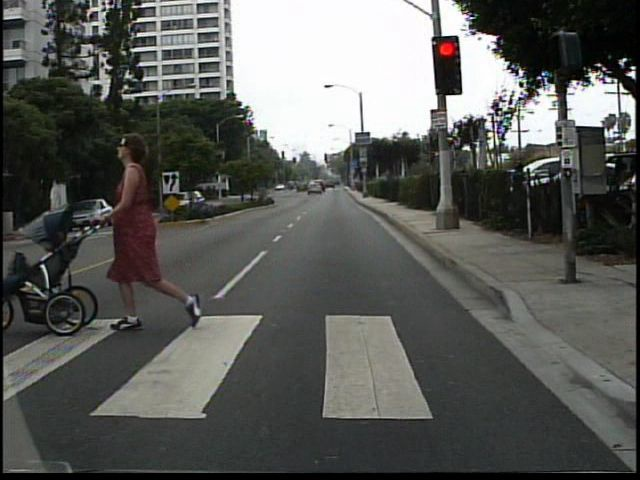person: (98, 129, 204, 331)
